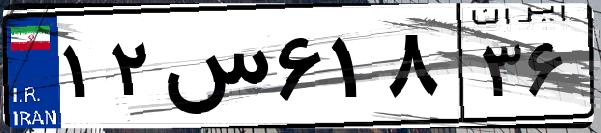1: (330, 28, 385, 110), (57, 26, 110, 100)
2: (110, 28, 158, 98)
3: (475, 38, 525, 113)
6: (270, 28, 330, 110), (525, 38, 570, 115)
8: (385, 28, 445, 110)
س: (158, 20, 270, 120)
